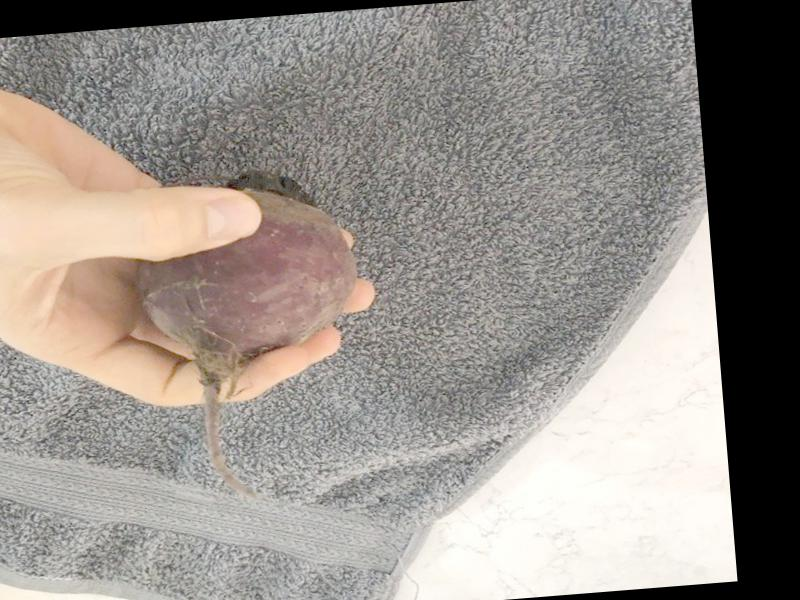Beet: (129, 164, 373, 507)
